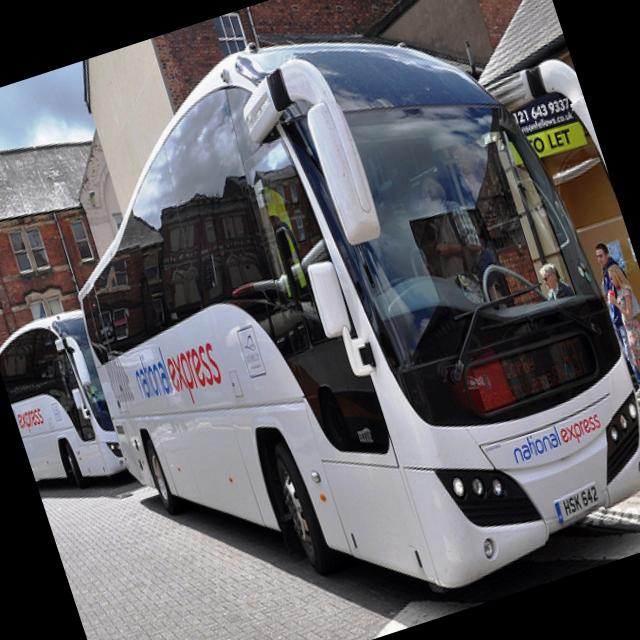Vehicle: (9, 0, 640, 640), (0, 309, 128, 498)
